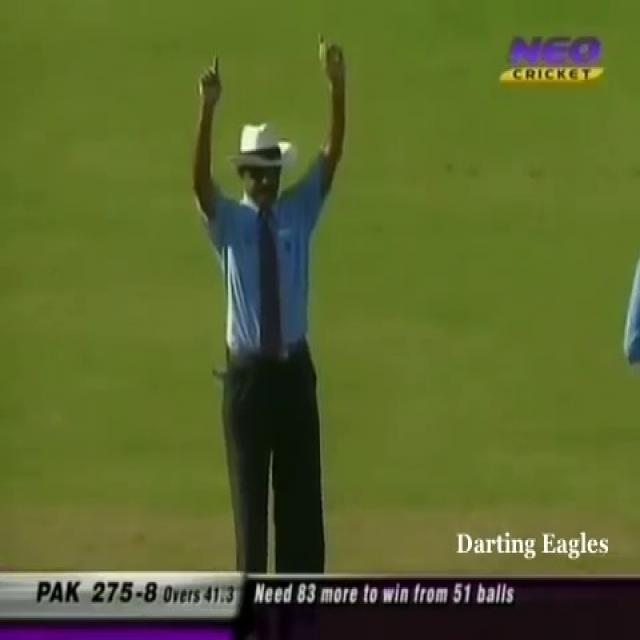Six: (184, 32, 355, 576)
